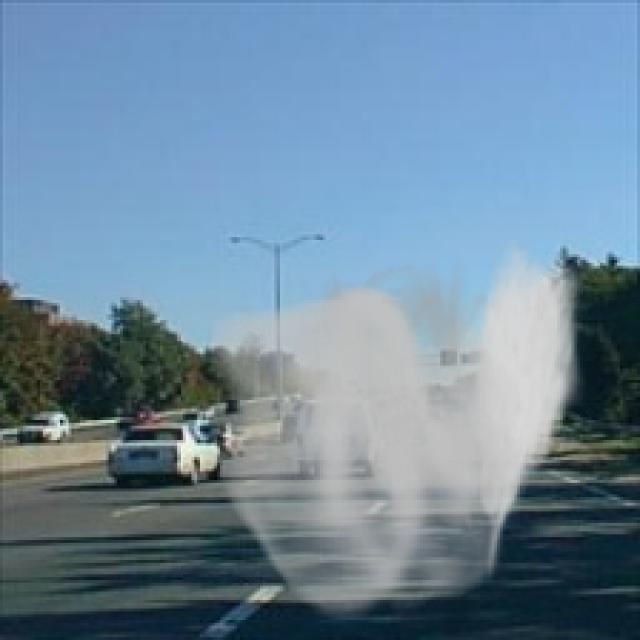smoke: (208, 240, 586, 629)
